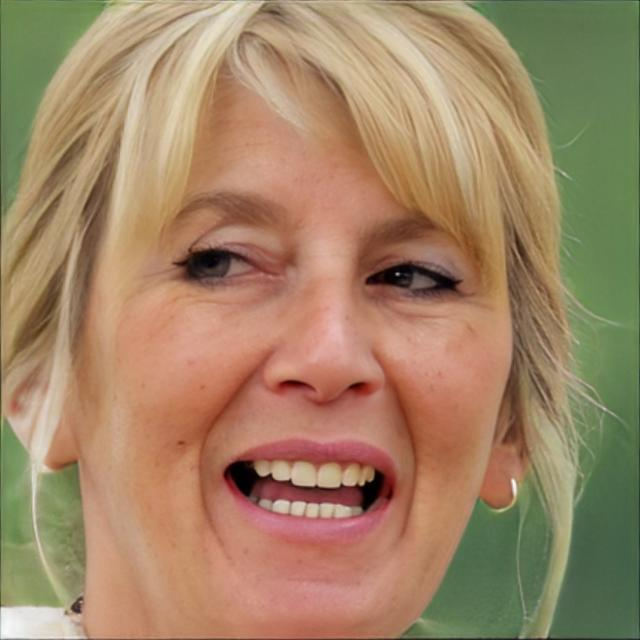happy: (73, 55, 516, 636)
